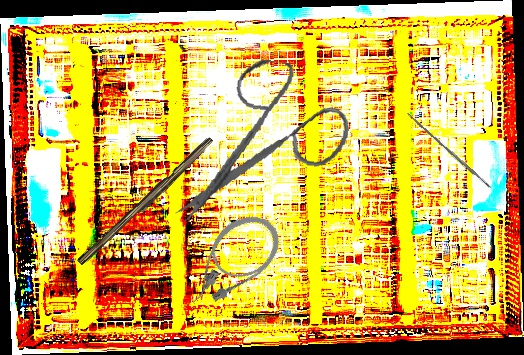Cannula: (168, 202, 293, 319)
Iris Scissors: (173, 50, 357, 243)
Scalpel Handle: (76, 134, 217, 270), (406, 112, 492, 190)
